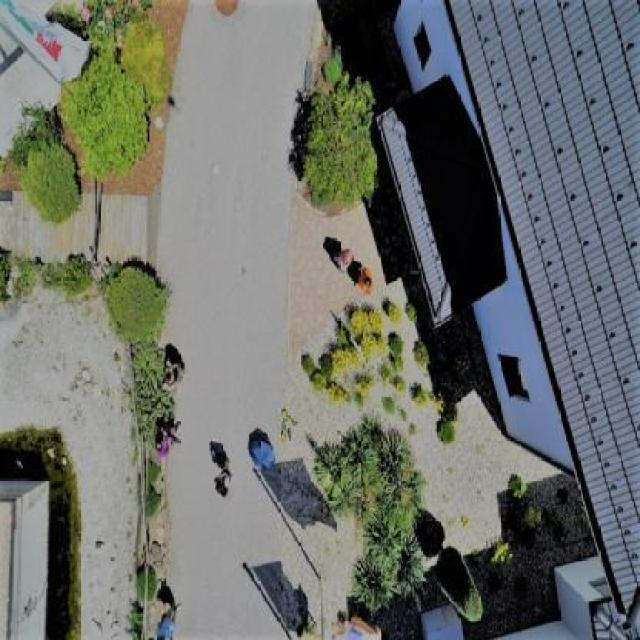Person: (158, 358, 188, 391), (204, 469, 233, 500), (153, 428, 176, 458), (335, 240, 353, 278), (356, 264, 372, 301)
